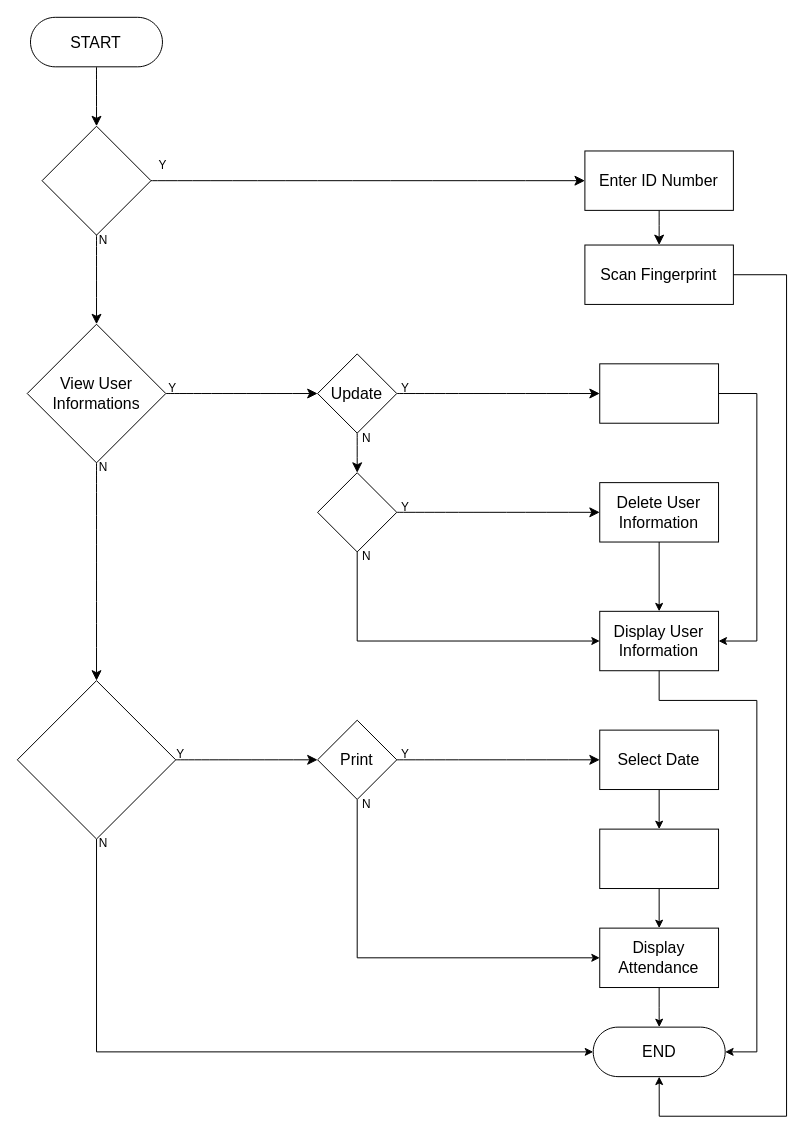
Some shapes in this 812 by 1141 pixel diagram are drawn without their labels. The shapes that lost their labels are listed below. From the top down, each one's centre as x and y in pixels, then its label:
the point at 96,180: Register
the point at 659,393: Update User Information
the point at 357,512: Delete
the point at 96,759: View Attendance Informations
the point at 659,858: Print Selected Date
